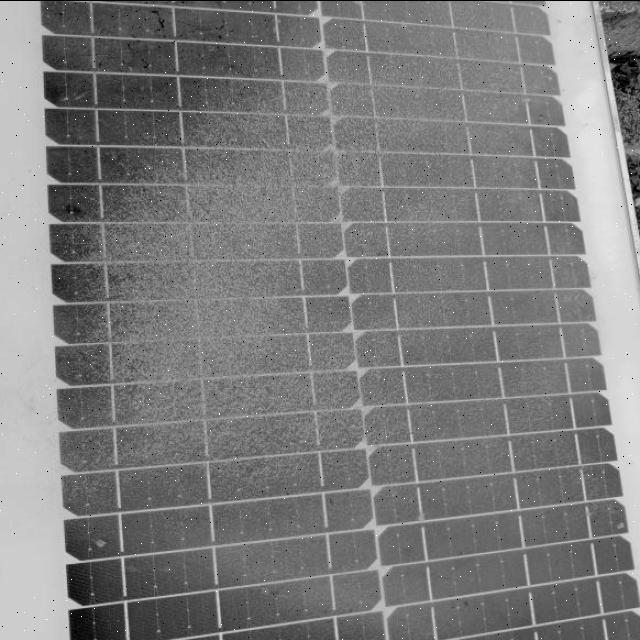Surface Contaminant: (52, 71, 610, 640)
